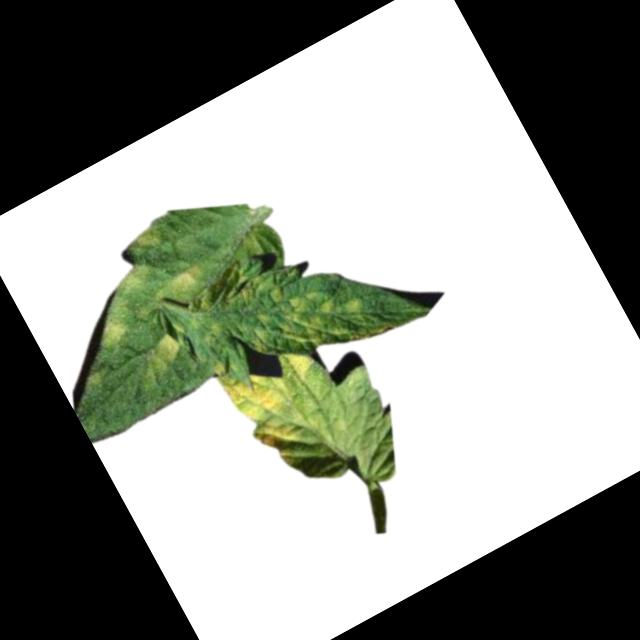Leaf_Mold: (217, 233, 390, 396), (213, 335, 352, 478), (128, 325, 193, 388), (86, 294, 142, 353), (156, 260, 209, 306), (122, 219, 171, 264), (210, 361, 231, 380)
